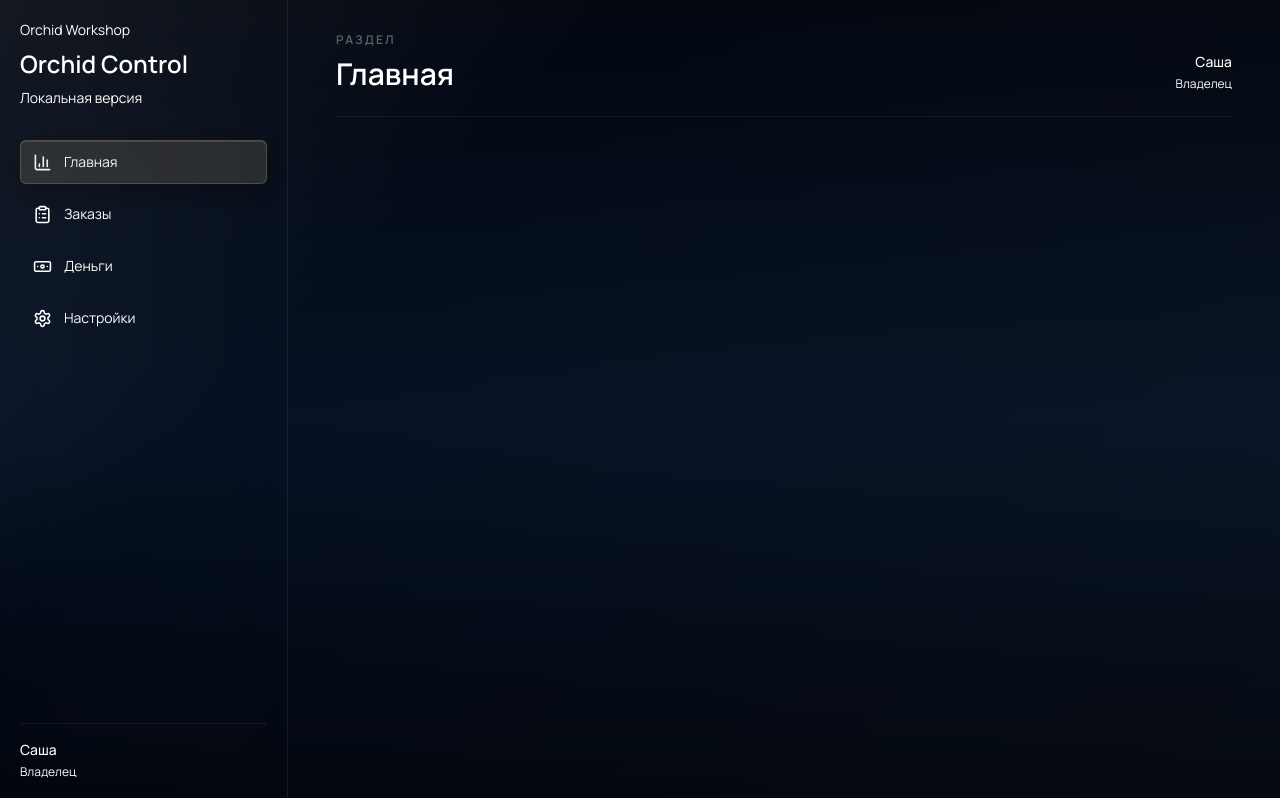
App › opens dedicated money operation dialogs from the finance overview
Check: the button labelled "Заказы" is shown, box [20,192,267,236]
Click the button labelled "Деньги" at (144,266), box [20,244,267,288]
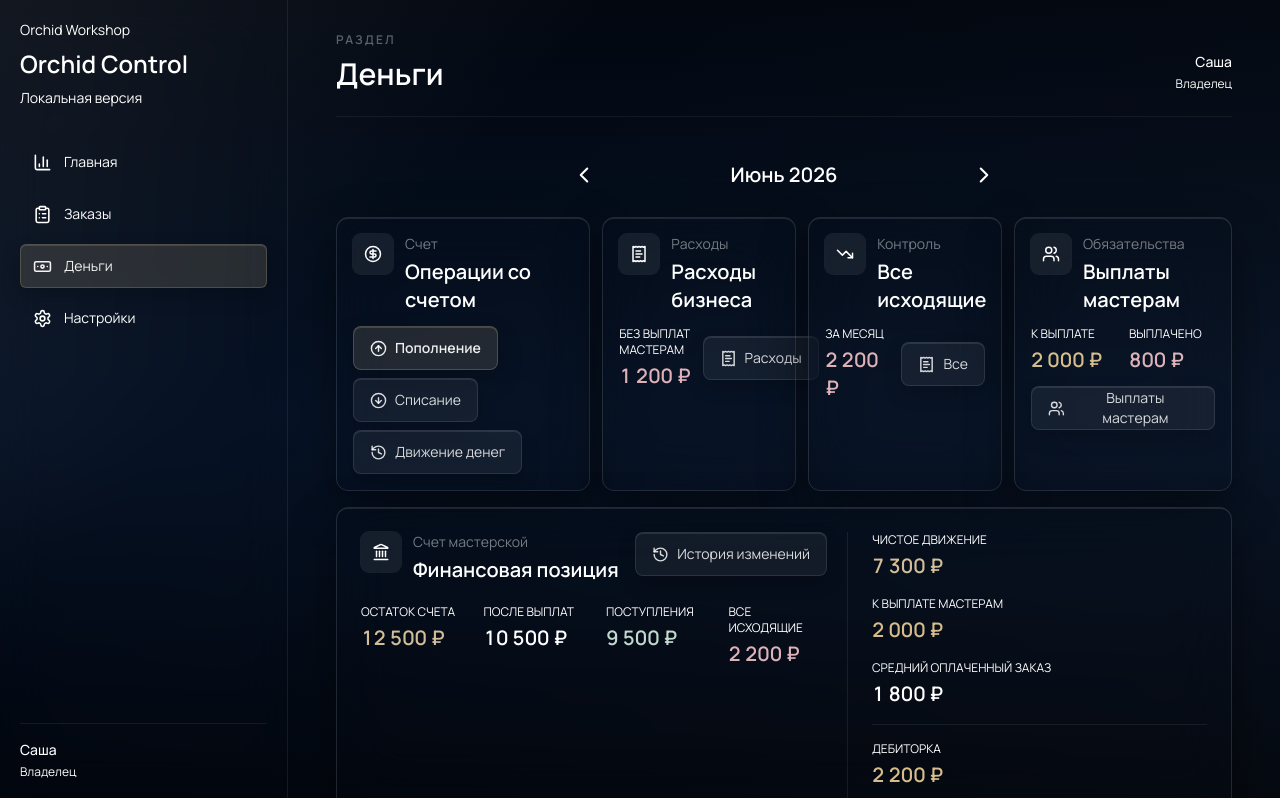
Check: the heading "Финансовая позиция" is shown, box [413,556,619,584]
Check: the button "Июнь 2026" is shown, box [616,149,952,201]
Click the button "Пополнение" at (425,348), box [353,326,498,370]
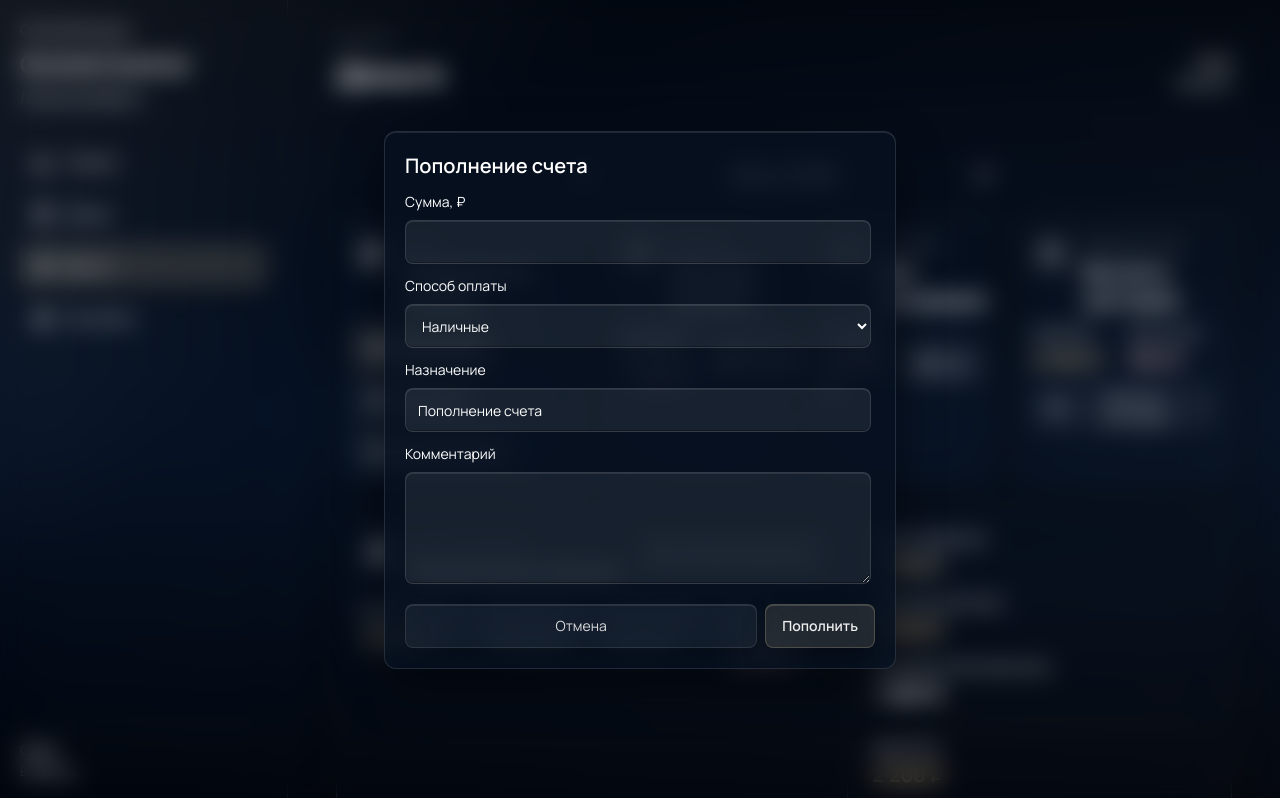
Check: the heading "Пополнение счета" is shown, box [405,152,588,179]
Check: the dropdown labelled "Способ оплаты" shows "Наличные"
Select "Перевод" in the dropdown labelled "Способ оплаты" at (638,326), box [405,304,871,348]
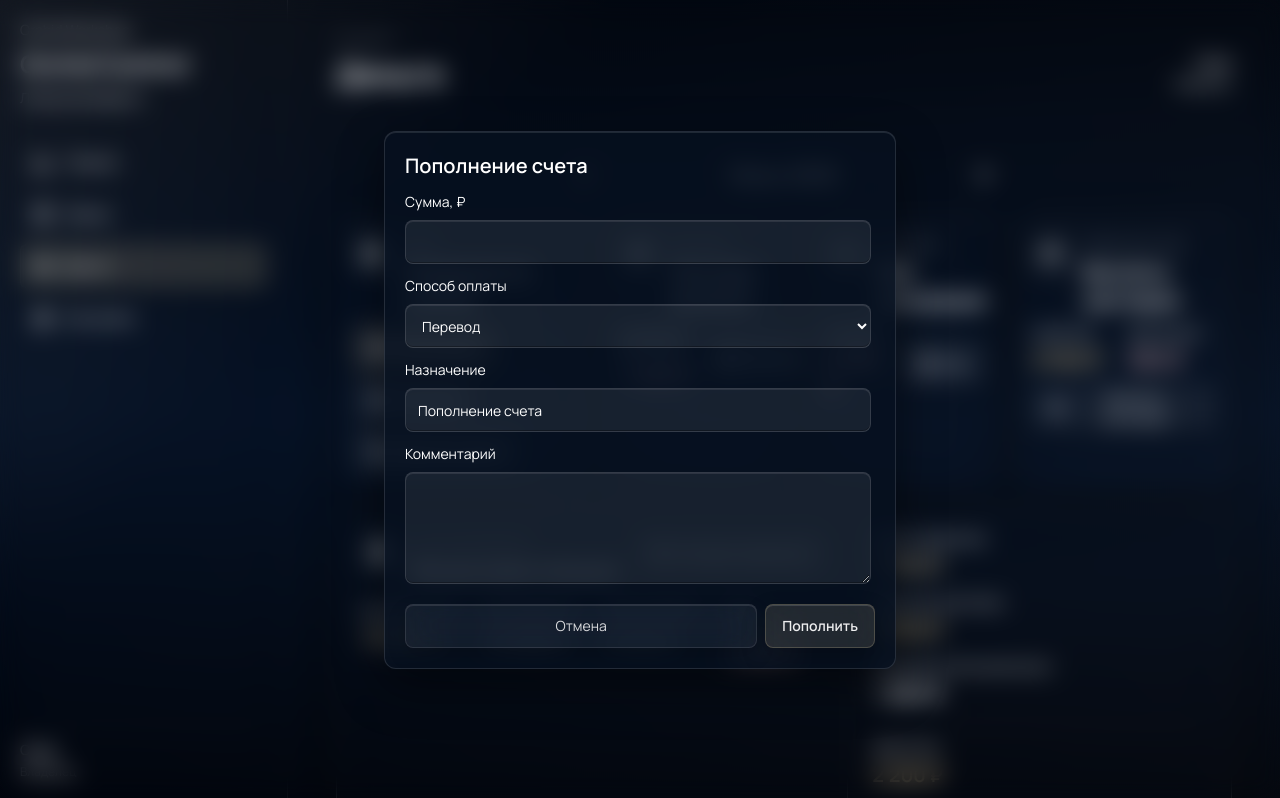
Type "250" into the field labelled "Сумма, ₽" at (638,242), box [405,220,871,264]
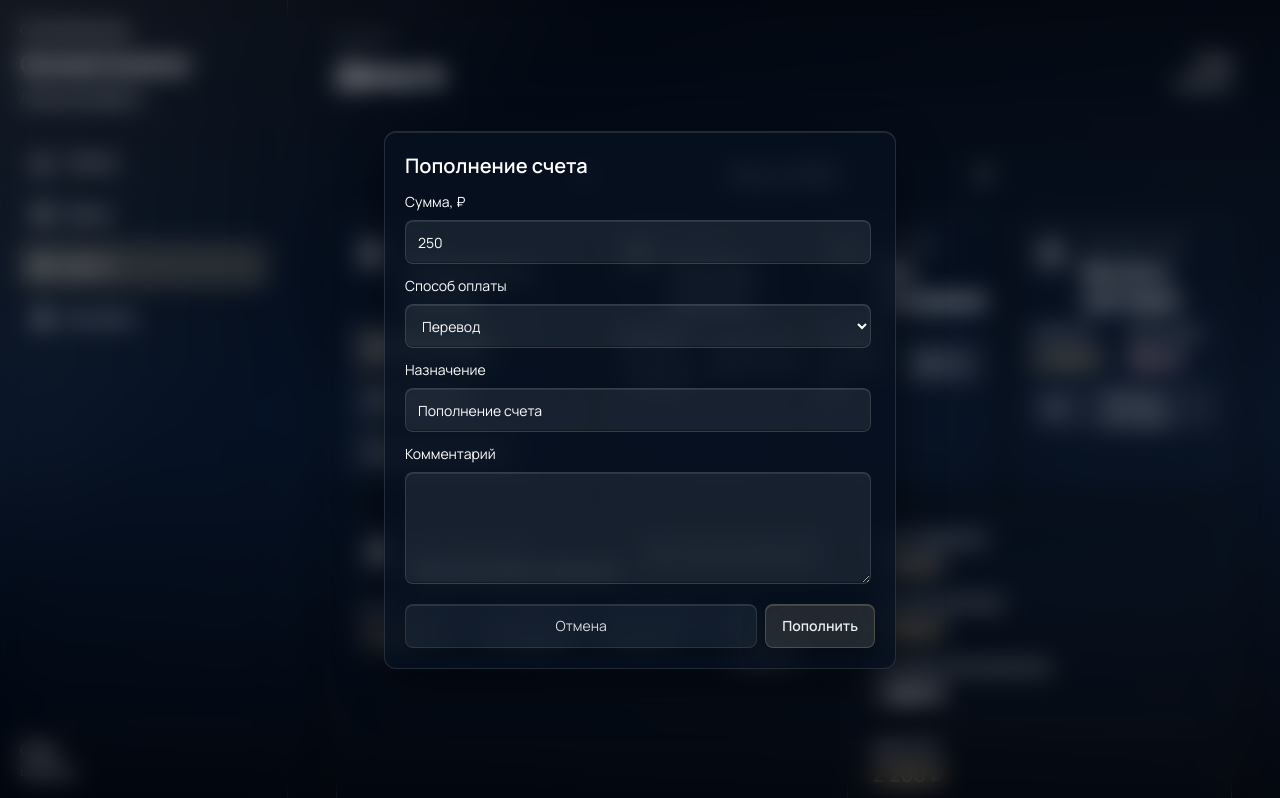
Click the button "Пополнить" at (820,626), box [765,604,875,648]
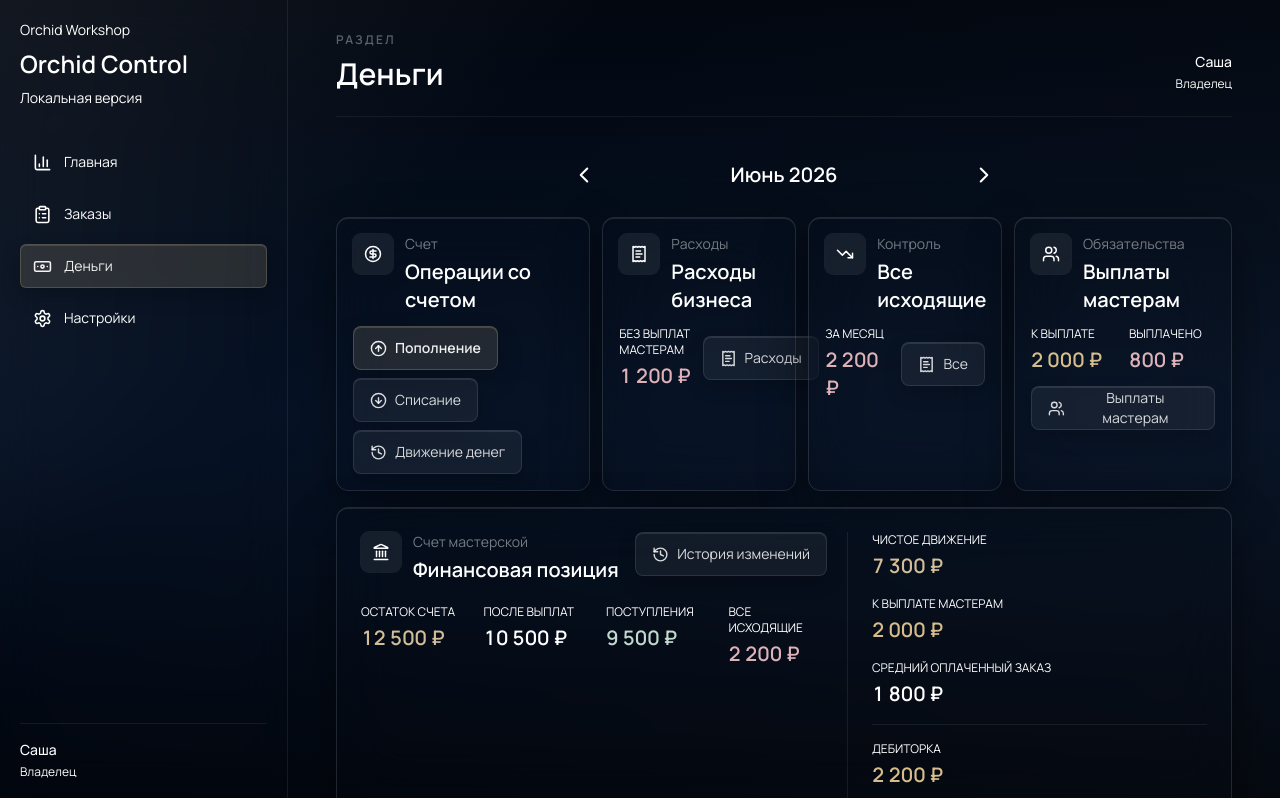
Click the button "Списание" at (415,400), box [353,378,478,422]
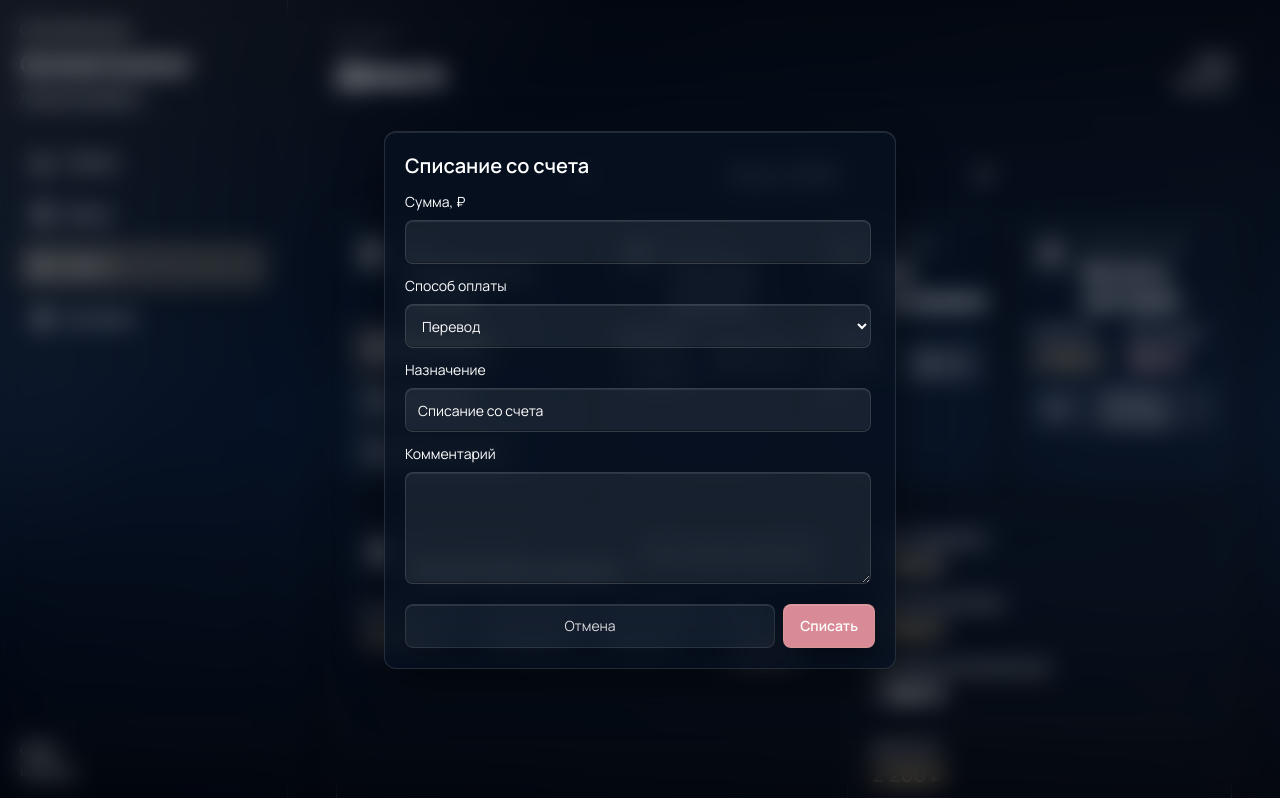
Check: the heading "Списание со счета" is shown, box [405,152,589,179]
